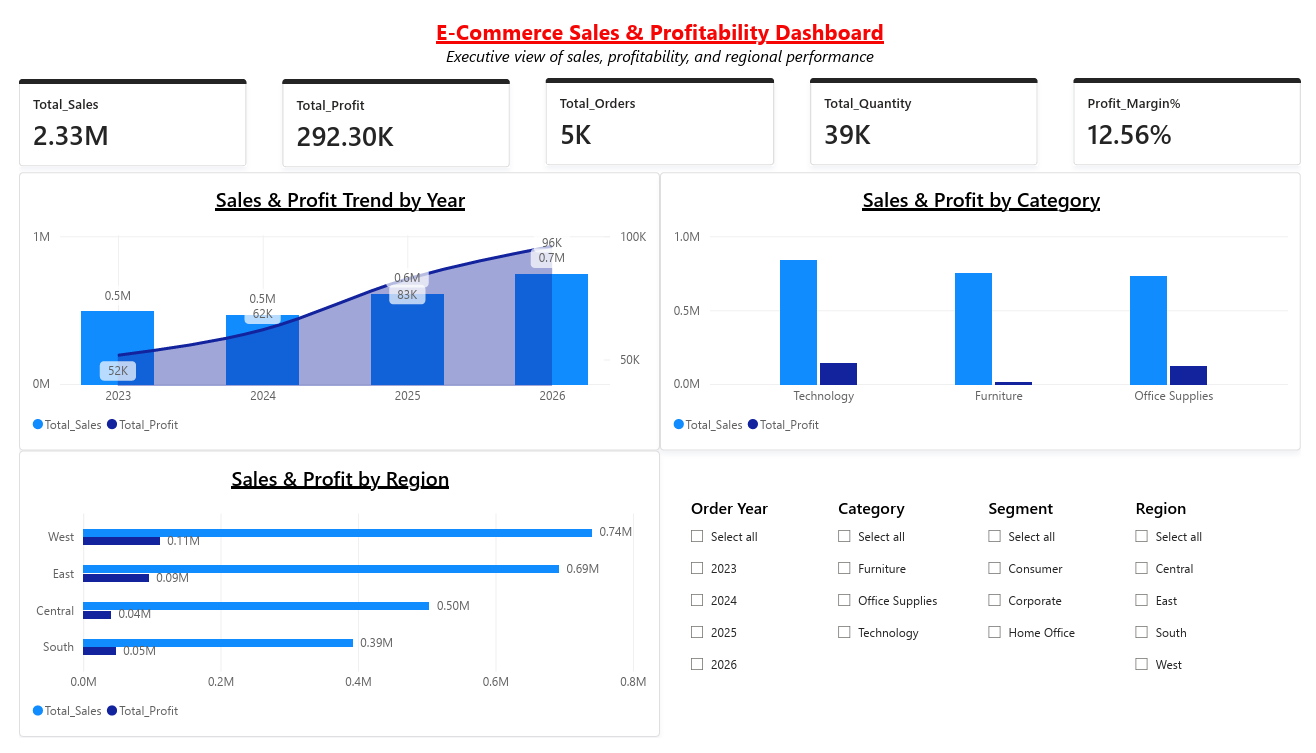

What the dashboard file says about the page in this screenshot:
{"tool":"powerbi","page":{"name":"Executive Overview","canvas":[1280,720],"ordinal":0},"visuals":[{"type":"cardVisual","fields":{"Data":["Orders_Clean_UTF8.Profit_Margin%"]},"box":[1052.9,60.5,227.1,87.1],"z":0},{"type":"cardVisual","fields":{"Data":["Orders_Clean_UTF8.Total_Orders"]},"box":[526.5,60.5,227.1,87.1],"z":1000},{"type":"cardVisual","fields":{"Data":["Orders_Clean_UTF8.Total_Profit"]},"box":[263.2,61.7,227.1,88.6],"z":2000},{"type":"cardVisual","fields":{"Data":["Orders_Clean_UTF8.Total_Quantity"]},"box":[789.7,60.5,227.1,87.1],"z":3000},{"type":"cardVisual","fields":{"Data":["Orders_Clean_UTF8.Total_Sales"]},"box":[0,61.9,227.1,87.1],"z":4000},{"type":"lineStackedColumnComboChart","title":"Sales & Profit Trend by Year","fields":{"Category":["Orders_Clean_UTF8.Order Year"],"Y":["Orders_Clean_UTF8.Total_Sales"],"Y2":["Orders_Clean_UTF8.Total_Profit"]},"box":[0,154.7,640.1,278.4],"z":5000},{"type":"clusteredColumnChart","title":"Sales & Profit by Category","fields":{"Category":["Orders_Clean_UTF8.Category"],"Y":["Orders_Clean_UTF8.Total_Sales","Orders_Clean_UTF8.Total_Profit"]},"box":[640.1,154.7,640.1,278.4],"z":6000},{"type":"clusteredBarChart","title":"Sales & Profit by Region","fields":{"Category":["Orders_Clean_UTF8.Region"],"Y":["Orders_Clean_UTF8.Total_Sales","Orders_Clean_UTF8.Total_Profit"]},"box":[0,432.5,640.1,286.4],"z":7000},{"type":"slicer","title":"Year","fields":{"Values":["Orders_Clean_UTF8.Order Year"]},"box":[662.9,478.6,147.1,192.9],"z":8000},{"type":"slicer","fields":{"Values":["Orders_Clean_UTF8.Category"]},"box":[810,478.6,146.6,181.6],"z":9000},{"type":"slicer","fields":{"Values":["Orders_Clean_UTF8.Segment"]},"box":[960,478.6,146.6,181.6],"z":10000},{"type":"slicer","fields":{"Values":["Orders_Clean_UTF8.Region"]},"box":[1107.1,478.6,147.1,187.1],"z":11000},{"type":"textbox","box":[0,0,1280.3,60.5],"z":11004}]}

Visuals, with their boxes in screenshot pixels (x1, y1, x2, y2), scaled from the page's 1280x720 canvas onto the 1316x753 screenshot:
cardVisual - Orders_Clean_UTF8.Profit_Margin%: bbox=(1083, 63, 1315, 154)
cardVisual - Orders_Clean_UTF8.Total_Orders: bbox=(541, 63, 775, 154)
cardVisual - Orders_Clean_UTF8.Total_Profit: bbox=(271, 65, 504, 157)
cardVisual - Orders_Clean_UTF8.Total_Quantity: bbox=(812, 63, 1045, 154)
cardVisual - Orders_Clean_UTF8.Total_Sales: bbox=(0, 65, 233, 156)
"Sales & Profit Trend by Year" lineStackedColumnComboChart: bbox=(0, 162, 658, 453)
"Sales & Profit by Category" clusteredColumnChart: bbox=(658, 162, 1315, 453)
"Sales & Profit by Region" clusteredBarChart: bbox=(0, 452, 658, 752)
"Year" slicer: bbox=(682, 501, 833, 702)
slicer - Orders_Clean_UTF8.Category: bbox=(833, 501, 984, 690)
slicer - Orders_Clean_UTF8.Segment: bbox=(987, 501, 1138, 690)
slicer - Orders_Clean_UTF8.Region: bbox=(1138, 501, 1289, 696)
textbox: bbox=(0, 0, 1315, 63)
